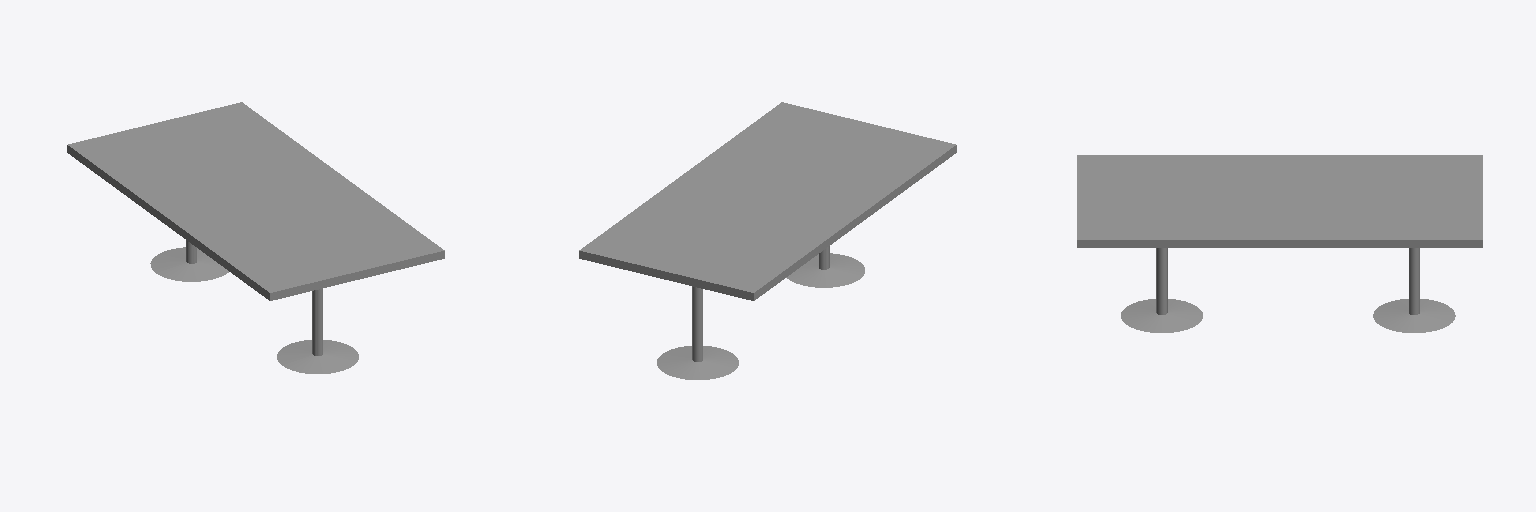
File: whitetablelong.obj
The picture shows the model from 3 angles: view 1: azimuth 30°, elevation 25°; view 2: azimuth 150°, elevation 25°; view 3: azimuth 270°, elevation 25°; orthographic projection.
Visible parts, largest first — view 1: Cylinder.000_Cylinder.002; view 2: Cylinder.000_Cylinder.002; view 3: Cylinder.000_Cylinder.002.
Part boxes in pixels (bbox=[...]): Cylinder.000_Cylinder.002: bbox=[67, 102, 444, 373]; Cylinder.000_Cylinder.002: bbox=[579, 102, 956, 379]; Cylinder.000_Cylinder.002: bbox=[1077, 155, 1482, 332].
Bounding box in the file's own units: 6.51 × 4.16 × 13.11.